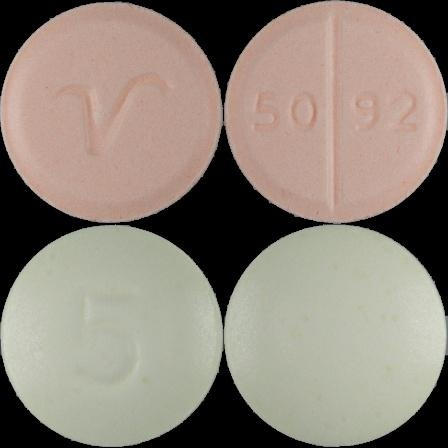66336-094: (0, 0, 224, 224)
